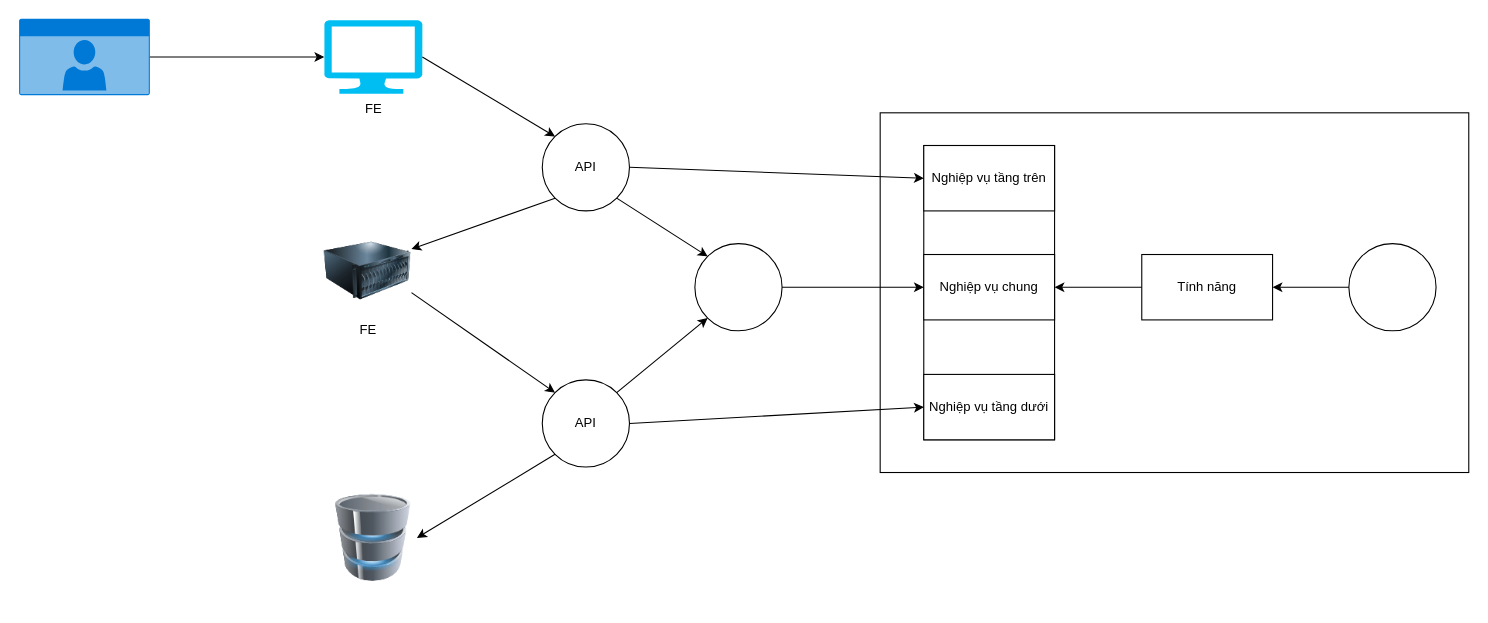
This 1488x623 diagram has some shape labels left out. Each missing label, with the box of its shape:
Giao điểm: (694, 243, 782, 331)
INFRA: (329, 494, 416, 581)
Thực thể: (1348, 243, 1436, 331)
User: (19, 18, 149, 95)
